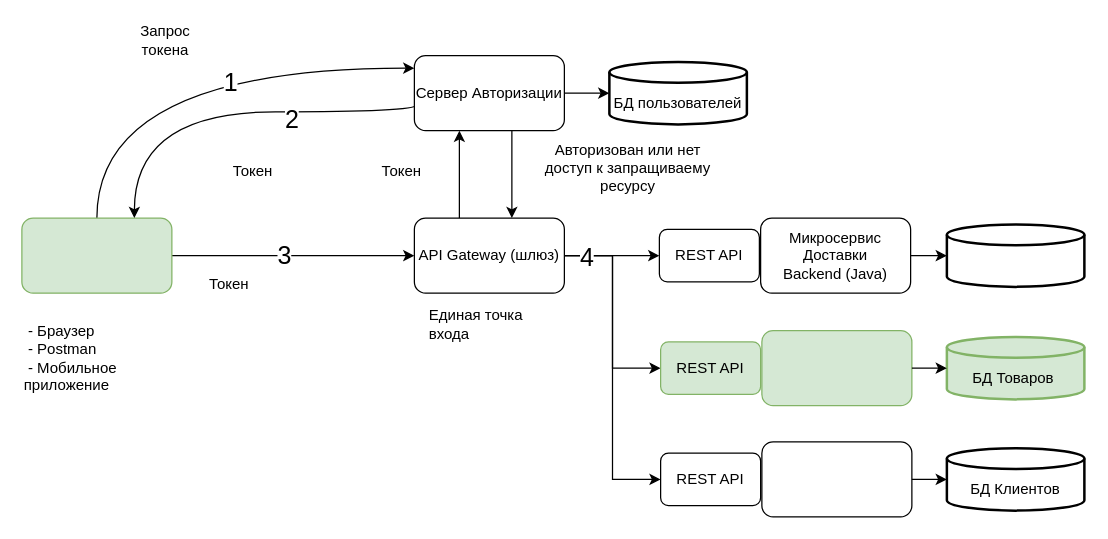
Image size: 1108x539. Some labels were removed from this diagram. Here are the shapes that lost their labels. From the top down, the centre of each, then its label:
At point 96,255: "Клиент".
At point 1015,255: "БД Доставки".
At point 836,367: "Микросервис Витрины товара Backend (.NET)".
At point 836,479: "Микросервис клиентов Backend (.PHP)".
